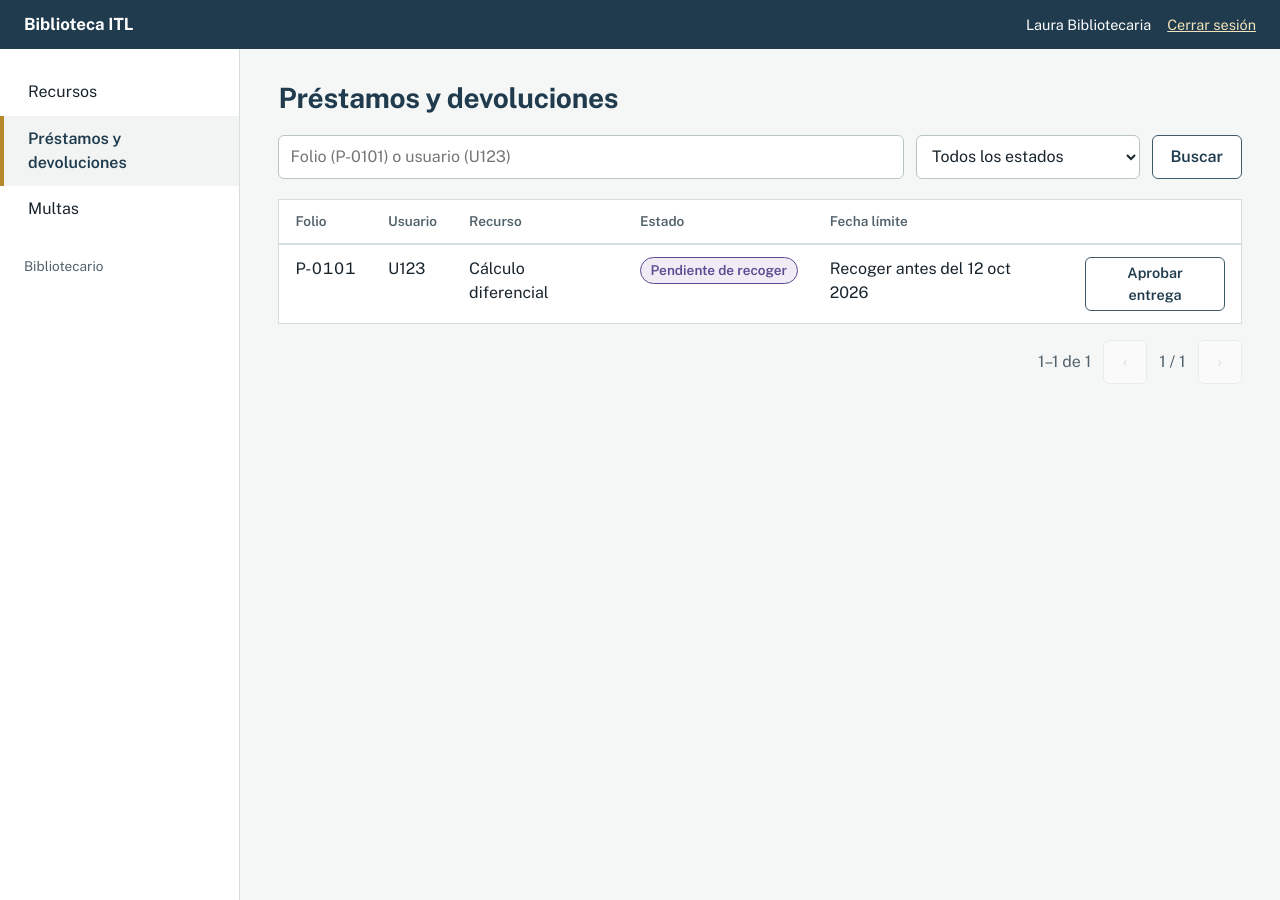
Préstamos y devoluciones (CU04, CU05) › si la reserva expiró, el 409 se explica dentro del diálogo
This screenshot has width=1280, height=900.
Step 1. Click the button "Aprobar entrega" → (1155, 284), box x1=1086 y1=256 x2=1225 y2=311
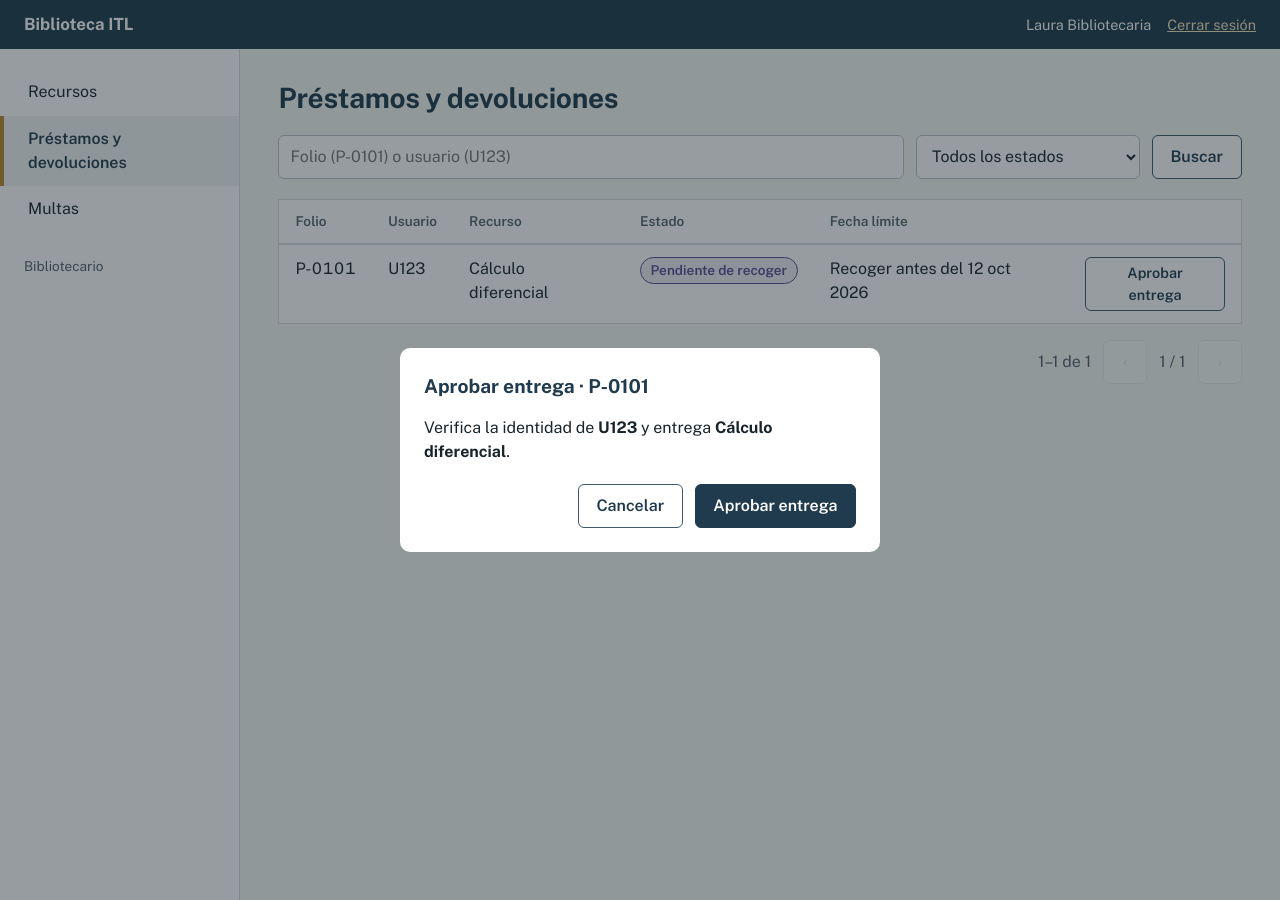
Step 2. Click the button "Aprobar entrega" → (775, 506), box x1=695 y1=484 x2=856 y2=528
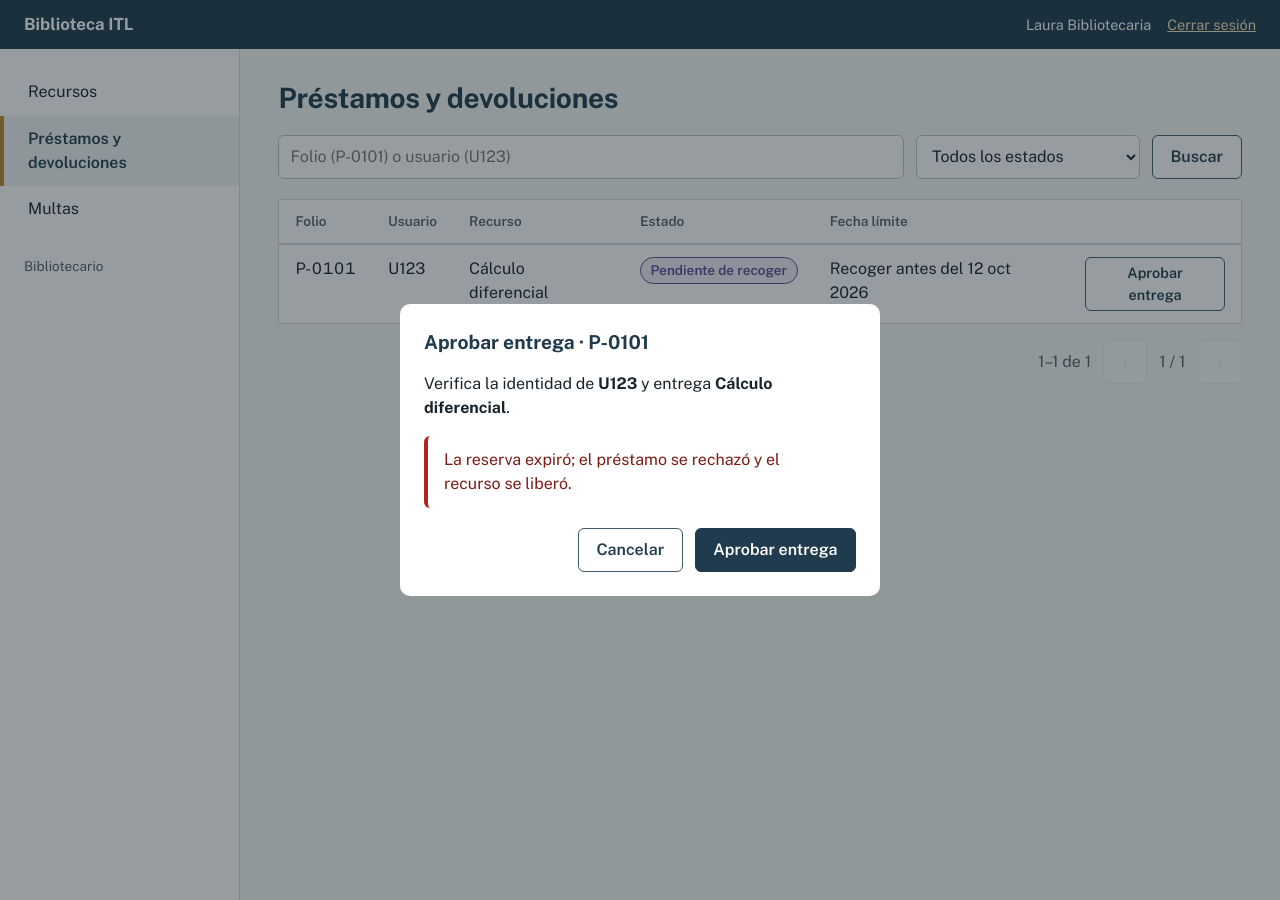
Expected: the message shows "La reserva expiró", x1=444 y1=450 x2=780 y2=493
